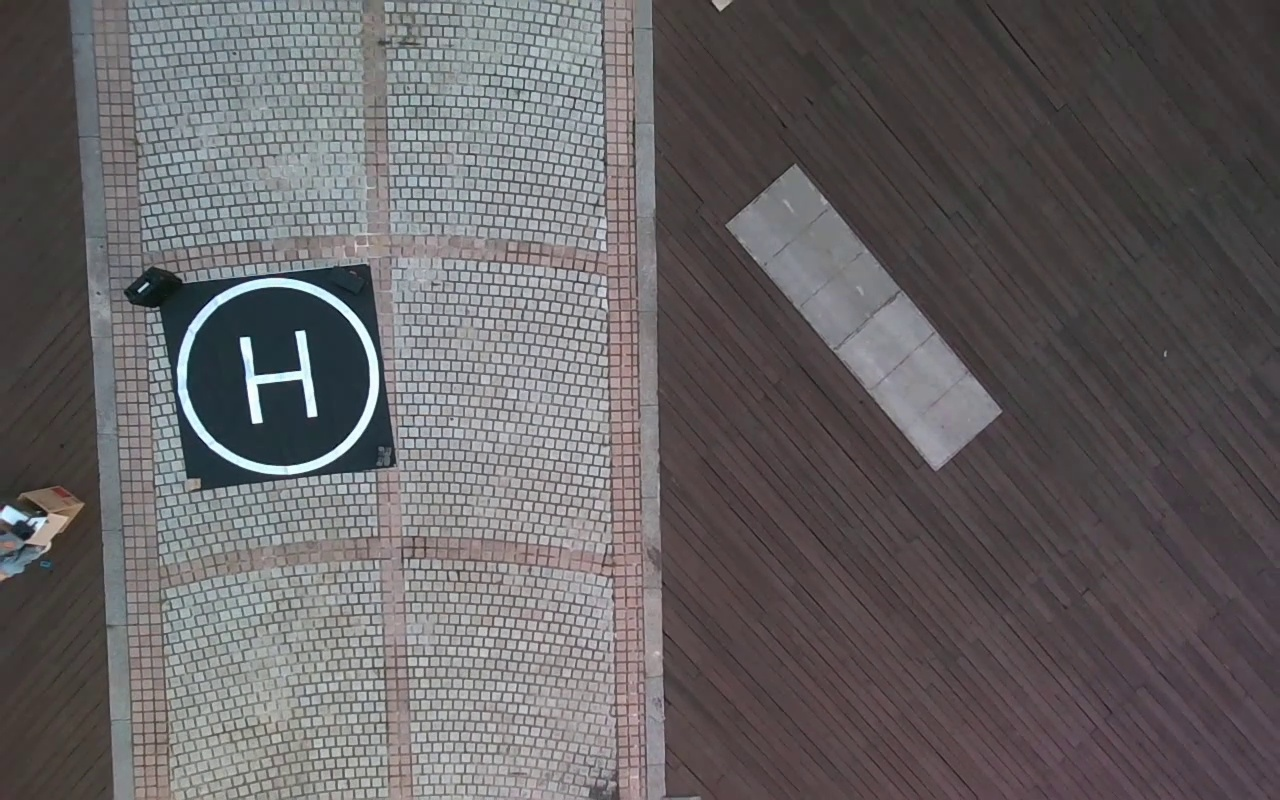H: (239, 329, 320, 424)
heliport: (175, 275, 380, 478)
